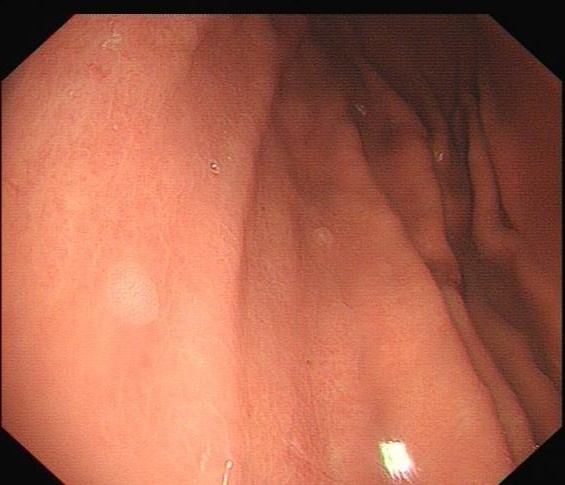Polyp: (108, 256, 163, 328)
